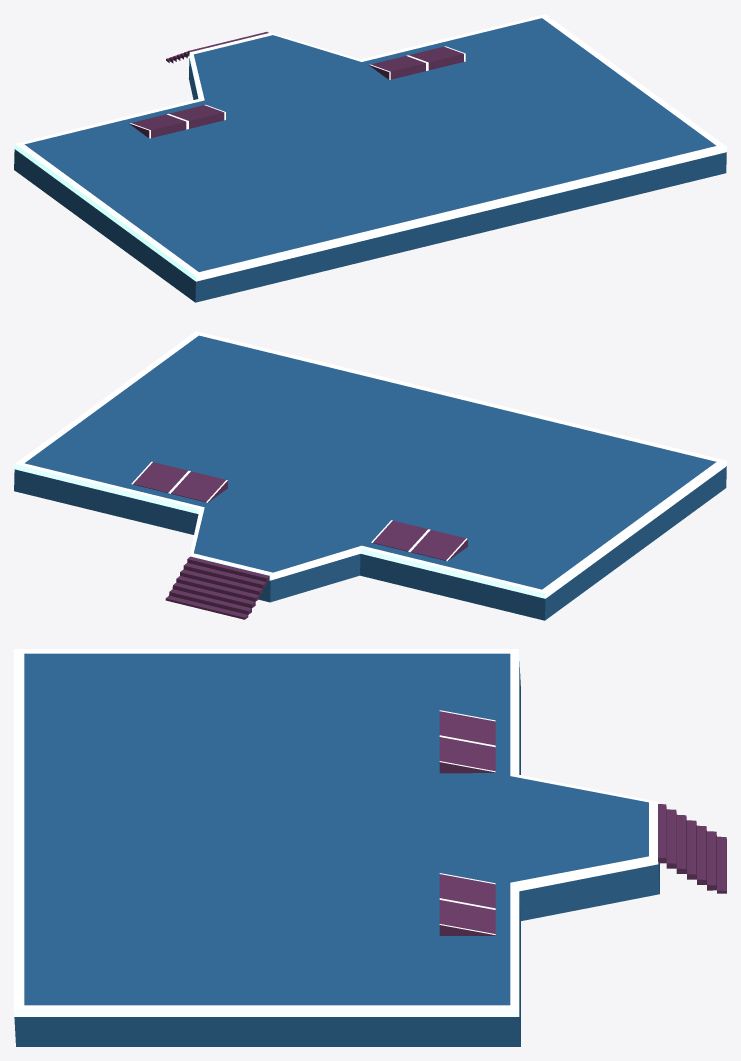
The model's file is ETC0110010.fbx.
3 renders of one model, top to bottom at view 1: azimuth 30°, elevation 25°; view 2: azimuth 150°, elevation 25°; view 3: azimuth 270°, elevation 25°, orthographic. The views are drawn at different scales.
Visible parts, largest first — view 1: smETC0110010; view 2: smETC0110010; view 3: smETC0110010.
Boxes of the visible parts, x1,y1,x2,y2 form: smETC0110010: (14,14,726,302); smETC0110010: (14,331,726,620); smETC0110010: (14,649,726,1046).
Bounding box in the file's own units: 1884 × 118 × 1575.
Materials: 1 (1 with a texture image).
